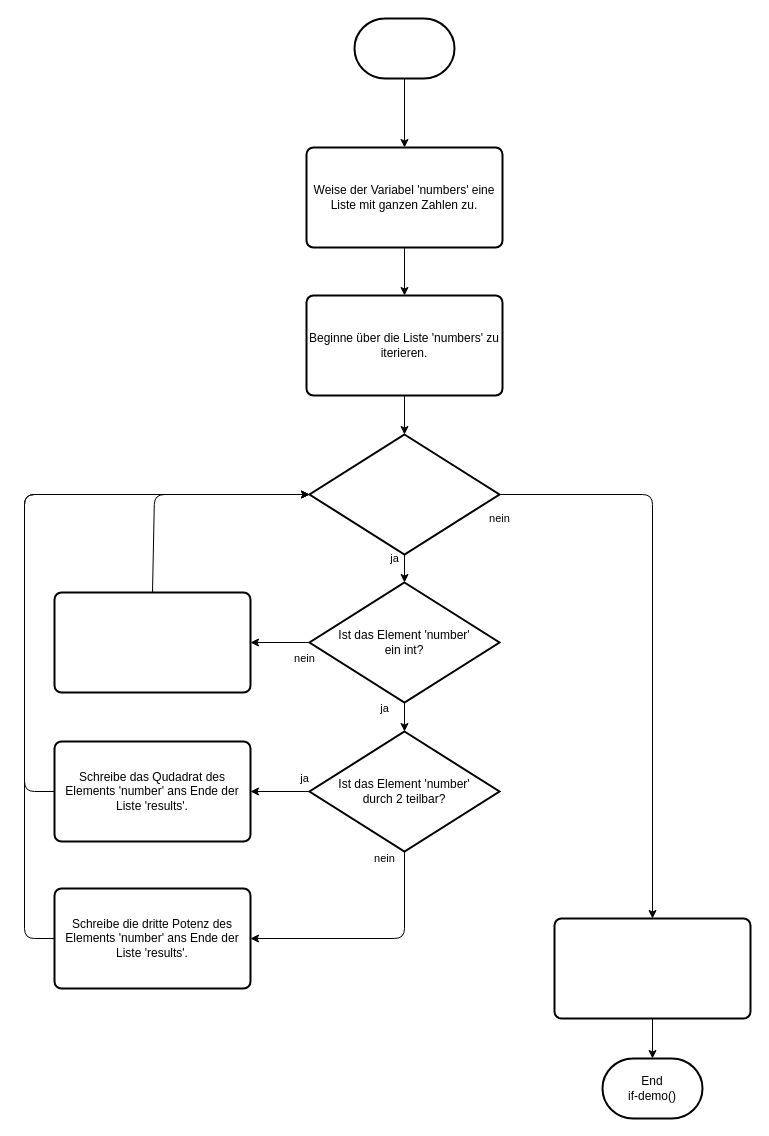
Some shapes in this 769 by 1136 pixel diagram are drawn without their labels. The shapes that lost their labels are listed below. From the top down, each one's box as (x1, y1, x2, y2) in pixels, then its label:
(353, 17, 455, 79): Start if-demo()
(308, 433, 500, 555): Sind noch Elemente in der Liste 'numbers' vorhanden?
(53, 591, 251, 693): Schreibe 'unzulässiger Input' ans Ende der Liste 'results'.
(553, 917, 751, 1019): Gib die Liste 'results' zurück.
